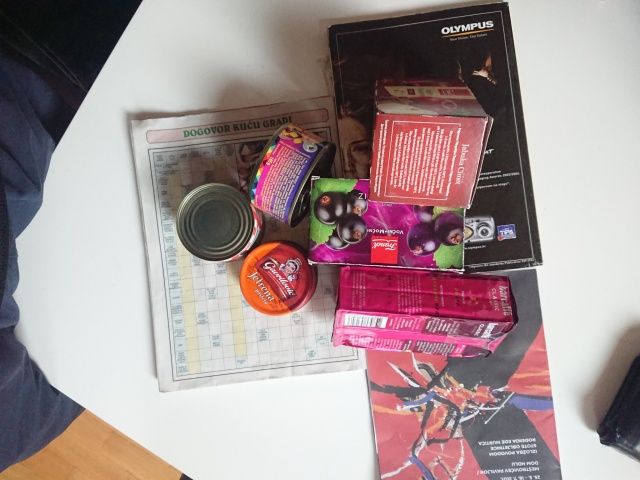Barcaffe Classic Original 225g: (328, 262, 522, 360)
Franck Apple Cinnamon Tea 60g: (366, 71, 496, 211)
Franck Black Currant Tea 60g: (305, 171, 470, 278)
Gavrilovic Pork Liver Pate 100g: (237, 236, 322, 319)
Giana Tuna Salad Mexico 185g: (246, 119, 339, 231)
Podravka Luncheon Meat 150g: (173, 180, 268, 265)
